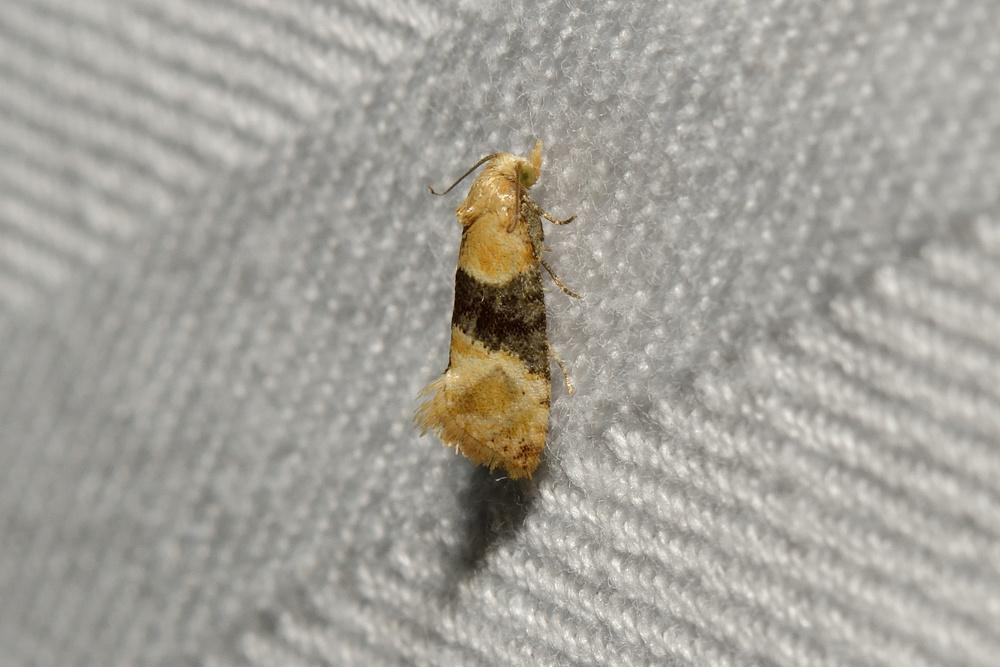Eupoecilia Ambiguella: (410, 136, 584, 484)
